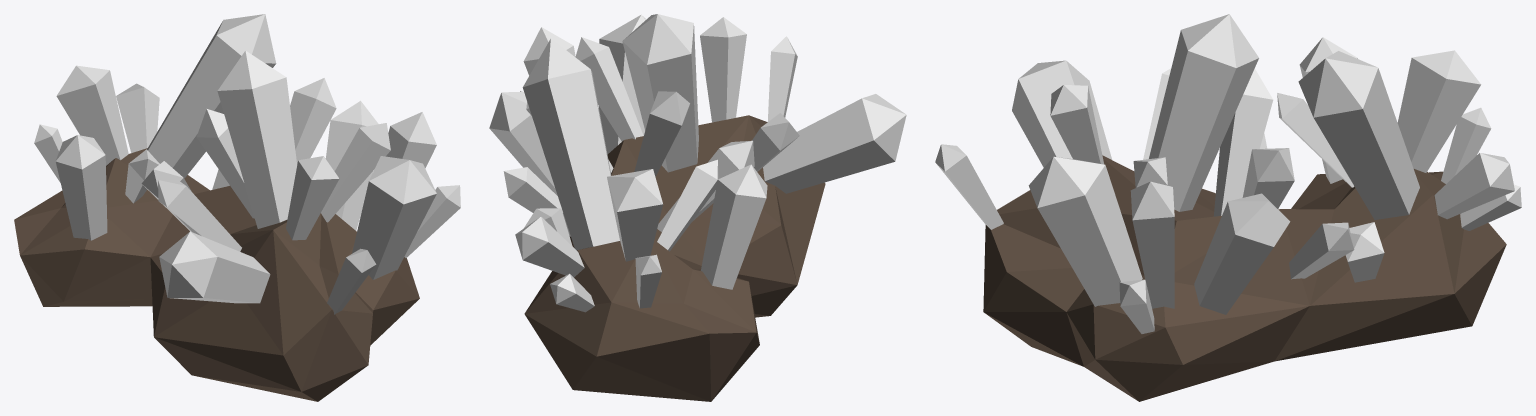
File: Coral3.fbx
3 renders of one model, left to right at view 1: azimuth 30°, elevation 25°; view 2: azimuth 150°, elevation 25°; view 3: azimuth 270°, elevation 25°, orthographic. The views are drawn at different scales.
Parts seen in each view (by area): view 1: Coral3; view 2: Coral3; view 3: Coral3.
Part boxes in pixels (<box>): Coral3: <box>14,14,460,401</box>; Coral3: <box>489,14,906,401</box>; Coral3: <box>935,14,1521,401</box>.
Size of the model in its own units: 58.34 by 48.57 by 75.59.
